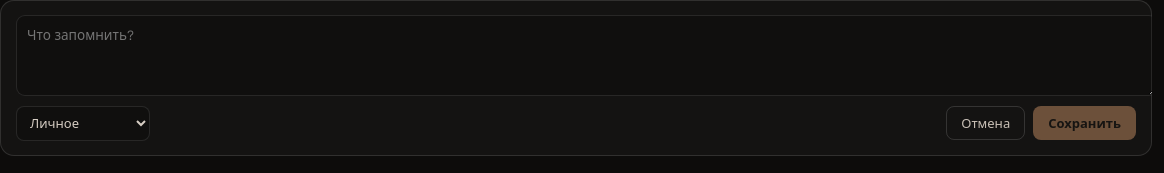
Test: save is disabled until content is non-blank
Check: the button "Сохранить" is disabled, box [1033, 106, 1136, 140]
In the text box named "Текст факта": (584, 55) [16, 15, 1152, 96], type "x"
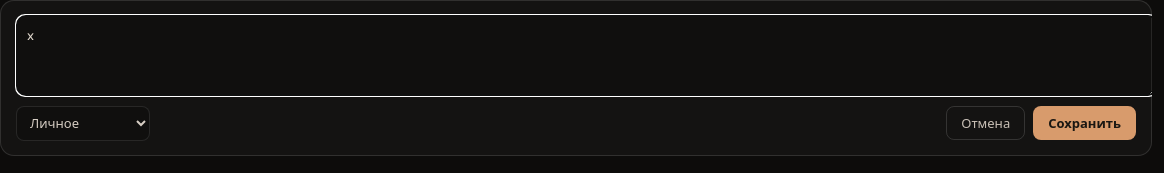
Check: the button "Сохранить" is enabled, box [1033, 106, 1136, 140]
